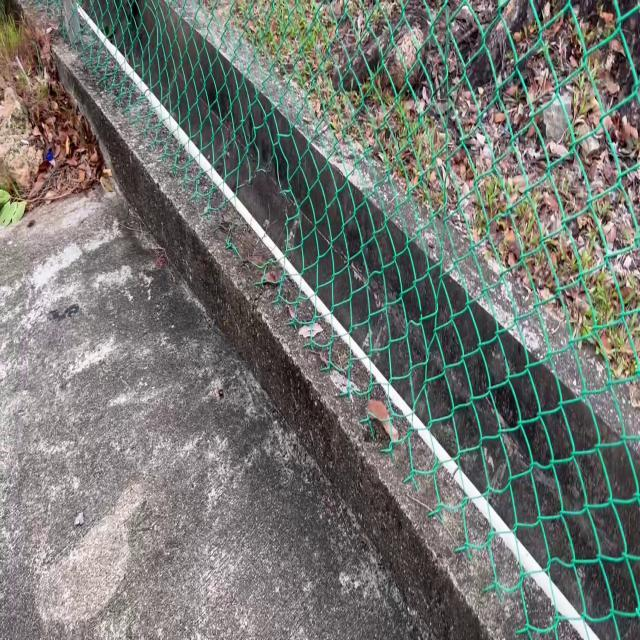fence line: (226, 160, 296, 295)
